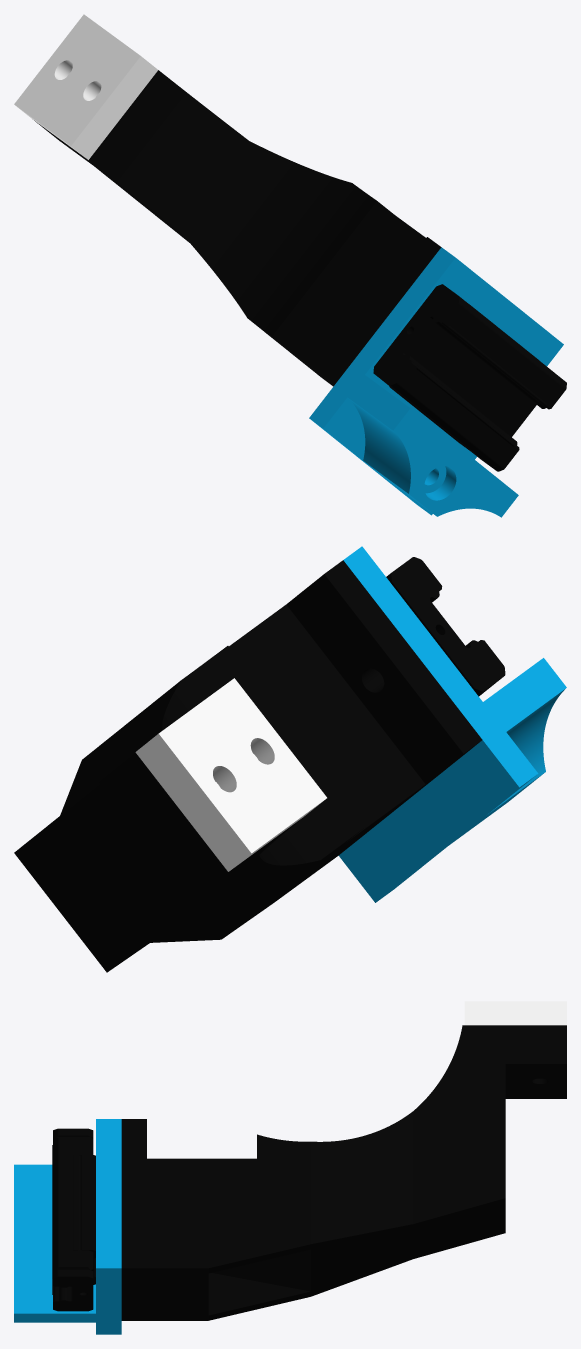
Rendered from Gipper2_link.glb.
The picture shows the model from 3 angles, top to bottom: view 1: azimuth 30°, elevation 25°; view 2: azimuth 150°, elevation 25°; view 3: azimuth 270°, elevation 25°; orthographic projection. The views are drawn at different scales.
Parts seen in each view (by area): view 1: 15_Ĭￏ.001; view 2: 15_Ĭￏ.001; view 3: 15_Ĭￏ.001.
Boxes of the visible parts, x1,y1,x2,y2 form: 15_Ĭￏ.001: (14,14,566,517); 15_Ĭￏ.001: (14,546,566,972); 15_Ĭￏ.001: (14,1001,566,1334).
Bounding box in the file's own units: 0.0582 × 0.0638 × 0.108.
